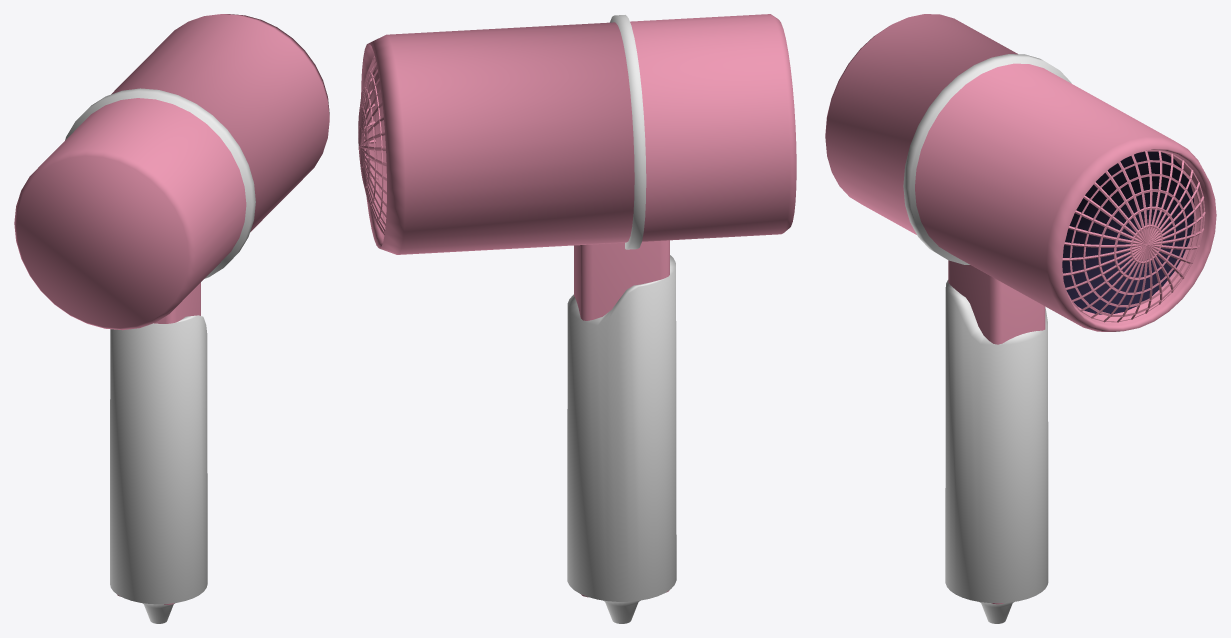
File: hairdryer.fbx
3 views of the same model, side by side, from view 1: azimuth 30°, elevation 25°; view 2: azimuth 150°, elevation 25°; view 3: azimuth 270°, elevation 25° (orthographic). The views are drawn at different scales.
Parts seen in each view (by area): view 1: Cylinder_0, Cylinder.001_2, Cube_1; view 2: Cylinder_0, Cylinder.001_2, Cube_1, Sphere_3; view 3: Cylinder_0, Cylinder.001_2, Sphere_3, Cube_1.
Part boxes in pixels (left/top/right/bottom): Cylinder_0: left=14, top=14, right=329, bottom=330; Cylinder.001_2: left=110, top=315, right=207, bottom=623; Cube_1: left=117, top=282, right=200, bottom=604; Cylinder_0: left=361, top=14, right=796, bottom=254; Cylinder.001_2: left=567, top=255, right=676, bottom=623; Cube_1: left=574, top=240, right=669, bottom=597; Sphere_3: left=358, top=56, right=386, bottom=234; Cylinder_0: left=825, top=14, right=1216, bottom=331; Cylinder.001_2: left=945, top=280, right=1048, bottom=623; Sphere_3: left=1062, top=150, right=1205, bottom=322; Cube_1: left=948, top=260, right=1045, bottom=604.
Bounding box in the file's own units: 339 × 489 × 310.
